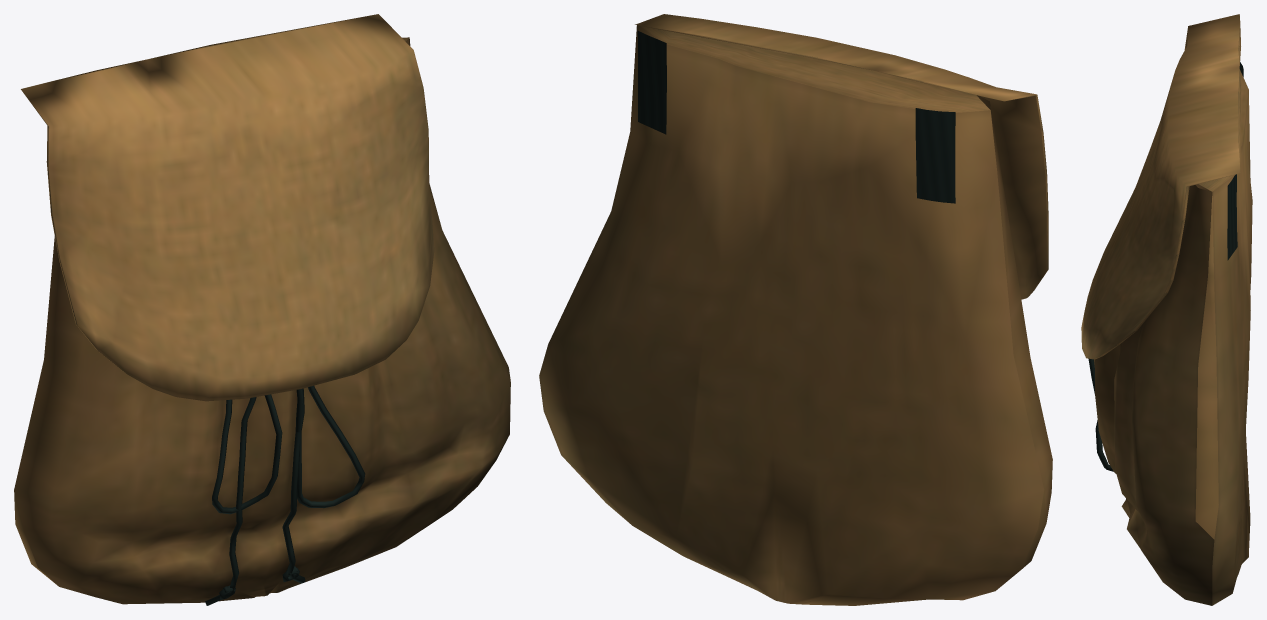
File: OchreClothPouchLow.glb
3 views of the same model, side by side, from view 1: azimuth 30°, elevation 25°; view 2: azimuth 150°, elevation 25°; view 3: azimuth 270°, elevation 25° (orthographic). The views are drawn at different scales.
Parts seen in each view (by area): view 1: Ochre cloth pouch WoW low; view 2: Ochre cloth pouch WoW low; view 3: Ochre cloth pouch WoW low.
Part boxes in pixels (x1,y1,x2,y2): Ochre cloth pouch WoW low: [14, 14, 510, 605]; Ochre cloth pouch WoW low: [539, 14, 1052, 605]; Ochre cloth pouch WoW low: [1081, 14, 1252, 605].
Size of the model in its own units: 0.964 by 1.01 by 0.3439.
1 material, 1 textured.
